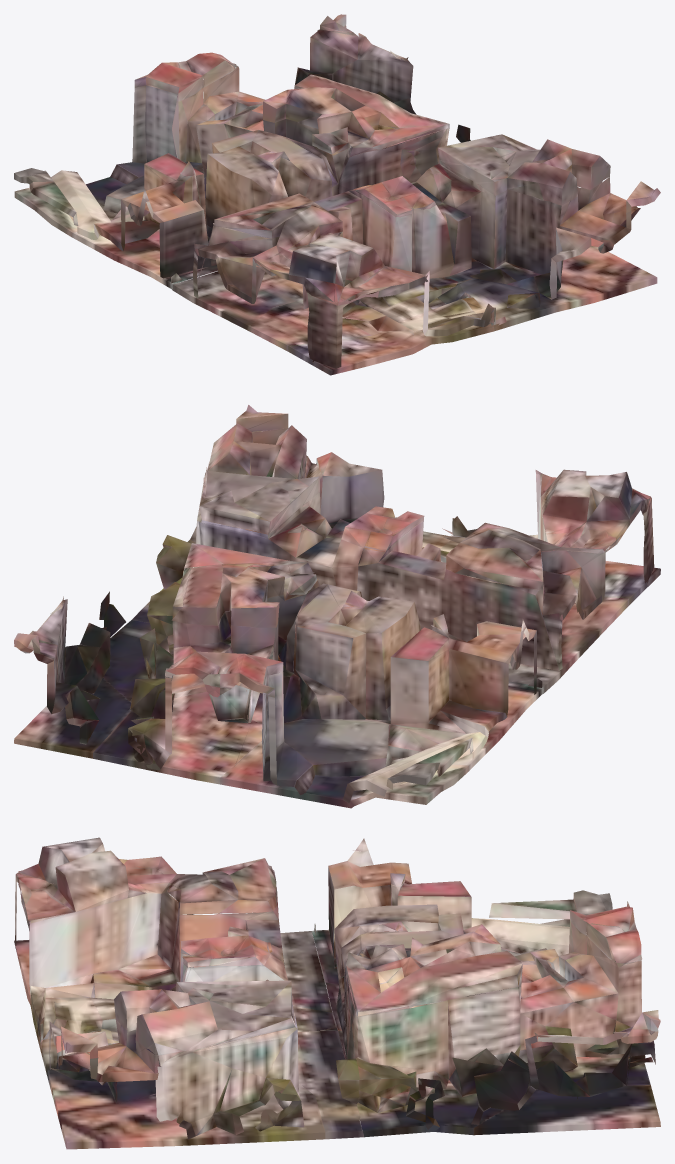
3 renders of one model, top to bottom at view 1: azimuth 30°, elevation 25°; view 2: azimuth 150°, elevation 25°; view 3: azimuth 270°, elevation 25°, orthographic. The views are drawn at different scales.
Parts seen in each view (by area): view 1: Mesh_0; view 2: Mesh_0; view 3: Mesh_0.
Part boxes in pixels (x1,y1,x2,y2): Mesh_0: [14, 14, 660, 375]; Mesh_0: [14, 405, 660, 808]; Mesh_0: [14, 837, 660, 1149].
Bounding box in the file's own units: 134 × 37.32 × 165.
Materials: 1 (1 with a texture image).
